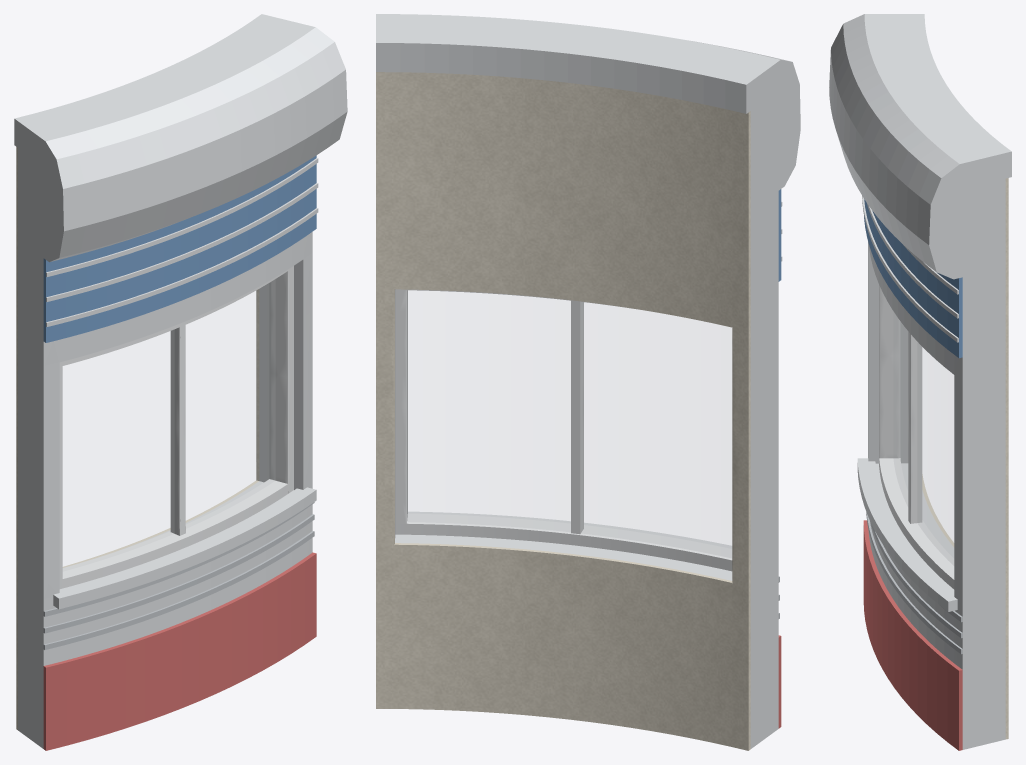
Rendered from wall_diner_curve.glb.
The picture shows the model from 3 angles, left to right: view 1: azimuth 30°, elevation 25°; view 2: azimuth 150°, elevation 25°; view 3: azimuth 270°, elevation 25°; orthographic projection. The views are drawn at different scales.
Visible parts, largest first — view 1: wall_diner_curve_steel, wall_diner_curve_glass, wall_diner_curve_enamel_red, wall_diner_curve_enamel, wall_diner_curve_frame, wall_diner_curve_steel_dark, wall_diner_curve_plaster; view 2: wall_diner_curve_plaster, wall_diner_curve_glass, wall_diner_curve_steel, wall_diner_curve_frame; view 3: wall_diner_curve_steel, wall_diner_curve_frame, wall_diner_curve_glass, wall_diner_curve_enamel_red, wall_diner_curve_enamel, wall_diner_curve_plaster, wall_diner_curve_steel_dark.
Part boxes in pixels (x1=…): wall_diner_curve_steel: x1=14, y1=14, x2=347, y2=748; wall_diner_curve_glass: x1=63, y1=280, x2=274, y2=570; wall_diner_curve_enamel_red: x1=43, y1=552, x2=316, y2=750; wall_diner_curve_enamel: x1=43, y1=155, x2=316, y2=342; wall_diner_curve_frame: x1=59, y1=266, x2=293, y2=588; wall_diner_curve_steel_dark: x1=43, y1=502, x2=314, y2=649; wall_diner_curve_plaster: x1=16, y1=147, x2=259, y2=729; wall_diner_curve_plaster: x1=376, y1=72, x2=750, y2=750; wall_diner_curve_glass: x1=407, y1=291, x2=731, y2=557; wall_diner_curve_steel: x1=376, y1=14, x2=800, y2=748; wall_diner_curve_frame: x1=395, y1=289, x2=732, y2=571; wall_diner_curve_steel: x1=829, y1=14, x2=1011, y2=749; wall_diner_curve_frame: x1=879, y1=285, x2=954, y2=589; wall_diner_curve_glass: x1=894, y1=314, x2=953, y2=564; wall_diner_curve_enamel_red: x1=863, y1=520, x2=962, y2=750; wall_diner_curve_enamel: x1=864, y1=199, x2=962, y2=358; wall_diner_curve_plaster: x1=922, y1=178, x2=1008, y2=739; wall_diner_curve_steel_dark: x1=866, y1=512, x2=962, y2=654.
Size of the model in its own units: 2.11 by 3.66 by 1.03.
Materials: 7 (1 with a texture image).
